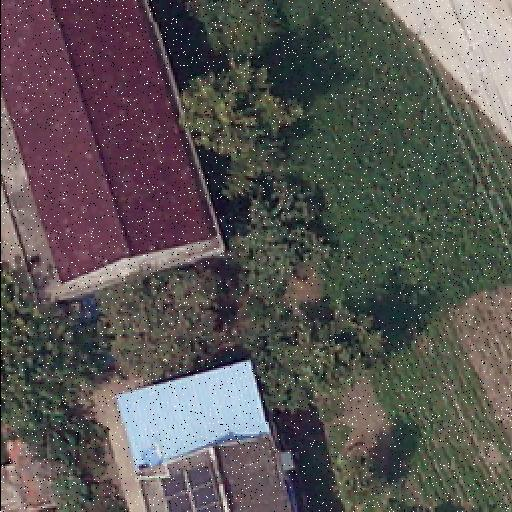solar-panel: (161, 464, 223, 512)
